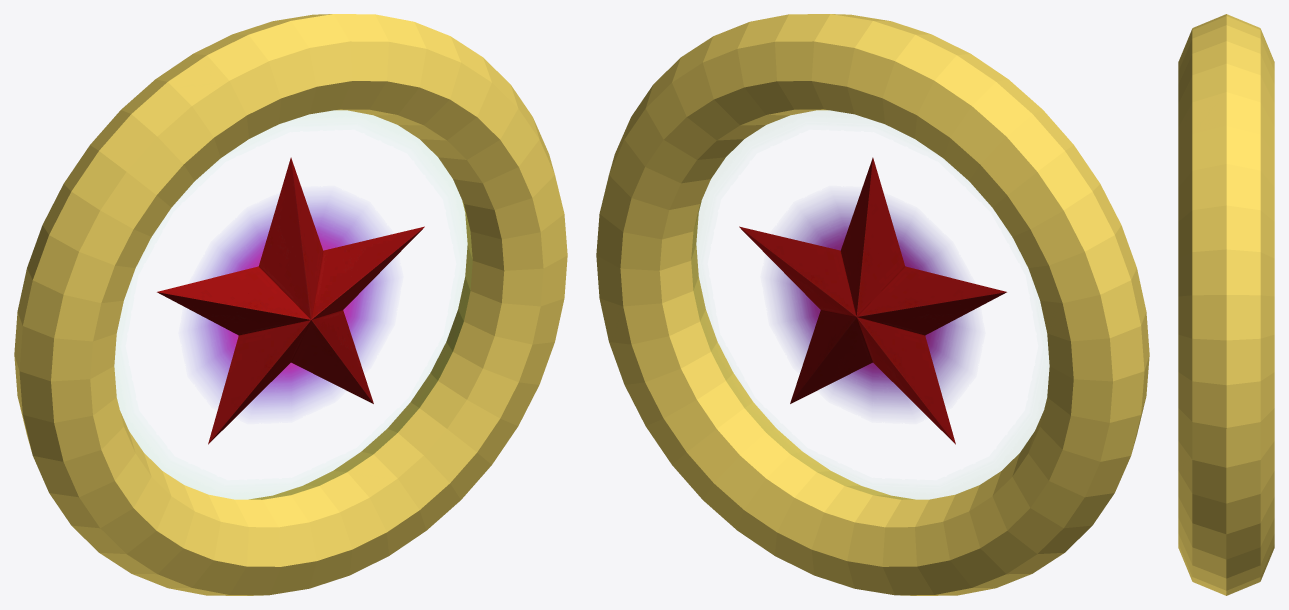
The model's file is ring.glb.
The picture shows the model from 3 angles, left to right: view 1: azimuth 30°, elevation 25°; view 2: azimuth 150°, elevation 25°; view 3: azimuth 270°, elevation 25°; orthographic projection. The views are drawn at different scales.
Visible parts, largest first — view 1: rdmobj00, rdmobj02, rdmobj01; view 2: rdmobj00, rdmobj02, rdmobj01; view 3: rdmobj00.
Boxes of the visible parts, <box> form: rdmobj00: <box>14,14,567,595</box>; rdmobj02: <box>157,157,424,444</box>; rdmobj01: <box>191,199,390,410</box>; rdmobj00: <box>596,14,1149,595</box>; rdmobj02: <box>739,157,1006,444</box>; rdmobj01: <box>773,199,972,410</box>; rdmobj00: <box>1178,14,1274,595</box>.
Bounding box in the file's own units: 144 × 144 × 23.84.
Materials: 3 (3 with a texture image).
